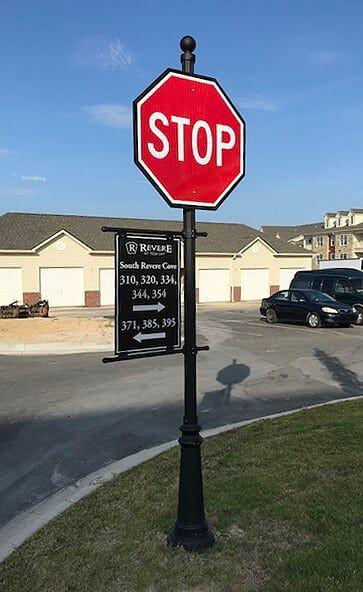Pole: (182, 211, 200, 546)
Sign: (135, 75, 247, 206)
